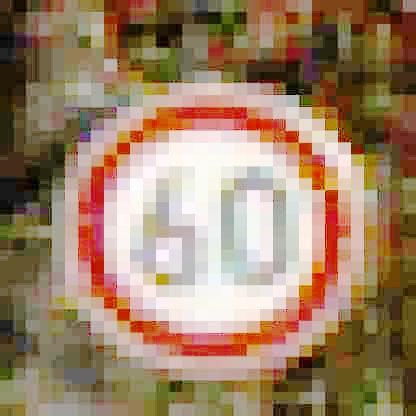Speed Limit -60-: (63, 78, 368, 379)
